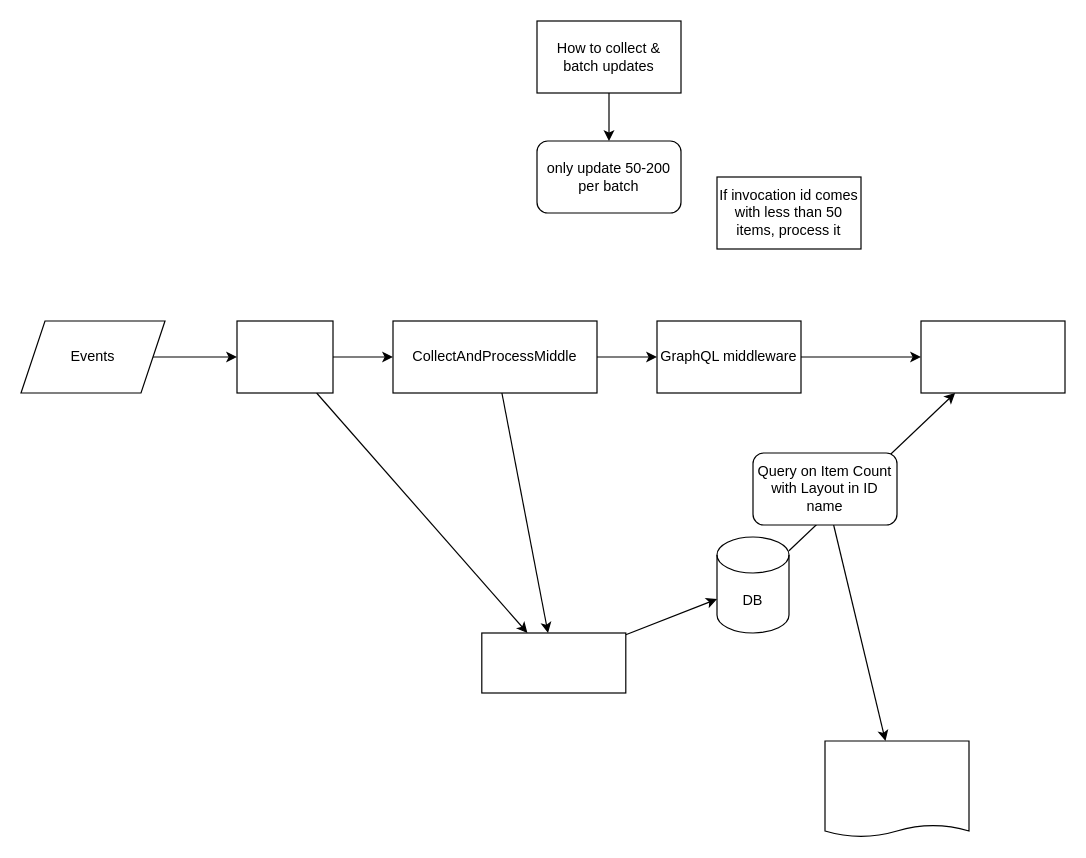
Some shapes in this 1086 by 858 pixel diagram are drawn without their labels. Here are the shapes that lost their labels. From the top down, the centre of each, then its label:
pixel 284 356: Webhook Receiver
pixel 992 356: consumer
pixel 553 662: collect continuations and items
pixel 896 788: invocation id items []
